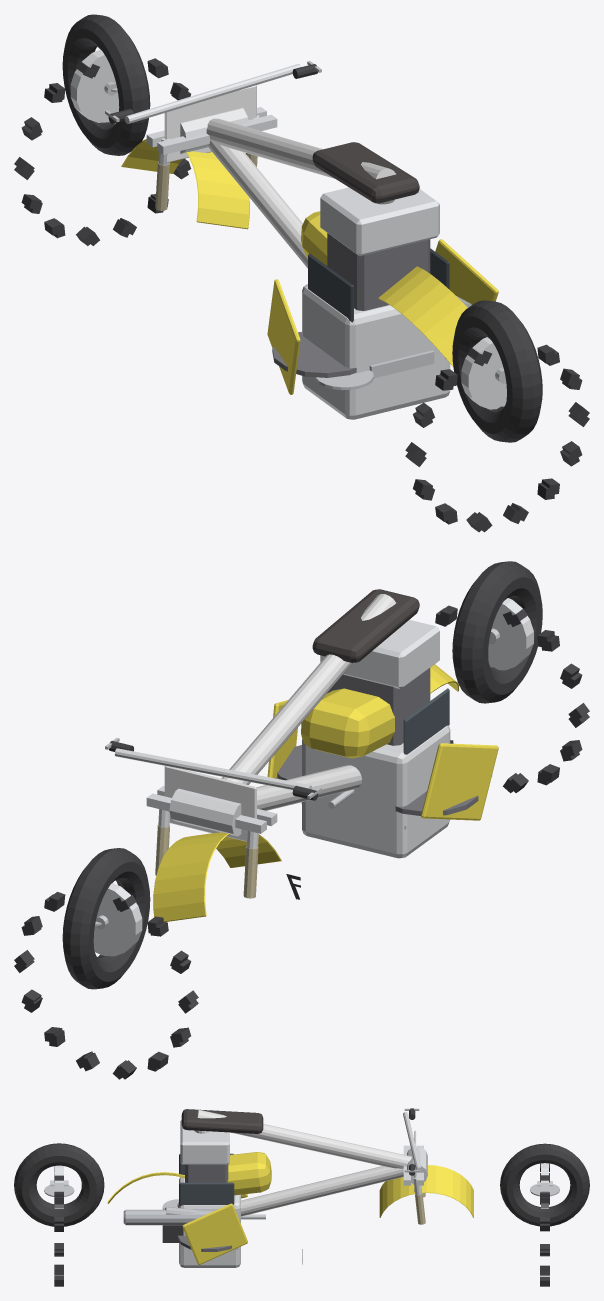
The picture shows the model from 3 angles, top to bottom: view 1: azimuth 30°, elevation 25°; view 2: azimuth 150°, elevation 25°; view 3: azimuth 270°, elevation 25°; orthographic projection. The views are drawn at different scales.
Parts seen in each view (by area): view 1: b_engine_case, b_rear_wheel_tire, b_front_wheel_tire, b_engine_head, b_engine_cyl, b_front_fender, b_rear_fender, b_seat, b_frame_spine, b_frame_down, b_front_wheel_rim, b_front_plate (+11 smaller); view 2: b_engine_case, b_rear_wheel_tire, b_front_wheel_tire, b_front_fender, b_tank, b_shroud_-1, b_frame_spine, b_engine_head, b_seat, b_front_plate, b_engine_cyl, b_front_wheel_rim (+8 smaller); view 3: b_rear_wheel_tire, b_front_wheel_tire, b_frame_spine, b_frame_down, b_shroud_1, b_front_fender, b_engine_head, b_tank, b_seat, b_sideplate_1, b_engine_case, b_silencer (+9 smaller).
Part boxes in pixels (left/top/right/bottom): b_engine_case: left=302, top=284, right=450, bottom=419; b_rear_wheel_tire: left=452, top=300, right=542, bottom=442; b_front_wheel_tire: left=62, top=14, right=150, bottom=155; b_engine_head: left=320, top=187, right=439, bottom=256; b_engine_cyl: left=327, top=233, right=430, bottom=310; b_front_fender: left=121, top=139, right=249, bottom=229; b_rear_fender: left=378, top=266, right=467, bottom=366; b_seat: left=312, top=142, right=419, bottom=203; b_frame_spine: left=206, top=118, right=395, bottom=179; b_frame_down: left=207, top=139, right=307, bottom=268; b_front_wheel_rim: left=70, top=49, right=119, bottom=122; b_front_plate: left=164, top=85, right=256, bottom=162; b_engine_case: left=302, top=725, right=450, bottom=858; b_rear_wheel_tire: left=452, top=561, right=542, bottom=703; b_front_wheel_tire: left=62, top=848, right=150, bottom=989; b_front_fender: left=153, top=832, right=281, bottom=921; b_tank: left=301, top=688, right=394, bottom=758; b_shroud_-1: left=421, top=743, right=498, bottom=820; b_frame_spine: left=221, top=594, right=396, bottom=784; b_engine_head: left=320, top=619, right=439, bottom=689; b_seat: left=312, top=589, right=419, bottom=662; b_front_plate: left=164, top=766, right=256, bottom=841; b_engine_cyl: left=327, top=668, right=430, bottom=745; b_front_wheel_rim: left=93, top=883, right=142, bottom=956; b_rear_wheel_tire: left=14, top=1143, right=104, bottom=1226; b_front_wheel_tire: left=500, top=1143, right=589, bottom=1226; b_frame_spine: left=197, top=1109, right=411, bottom=1168; b_frame_down: left=241, top=1166, right=403, bottom=1216; b_shroud_1: left=182, top=1203, right=247, bottom=1264; b_front_fender: left=379, top=1165, right=473, bottom=1217; b_engine_head: left=180, top=1120, right=229, bottom=1164; b_tank: left=227, top=1152, right=271, bottom=1195; b_seat: left=181, top=1109, right=263, bottom=1133; b_sideplate_1: left=179, top=1182, right=234, bottom=1206; b_engine_case: left=179, top=1175, right=240, bottom=1267; b_silencer: left=123, top=1209, right=215, bottom=1225.
Size of the model in its own units: 0.902 by 1.15 by 3.53.
